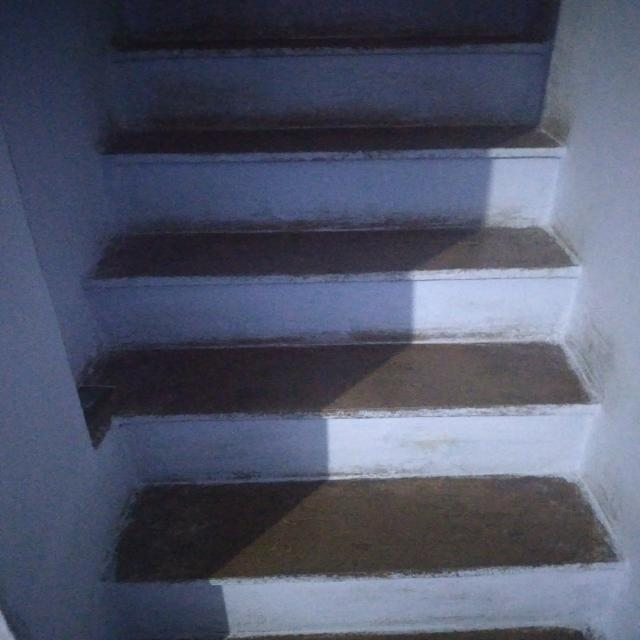Stairs: (37, 15, 632, 604)
